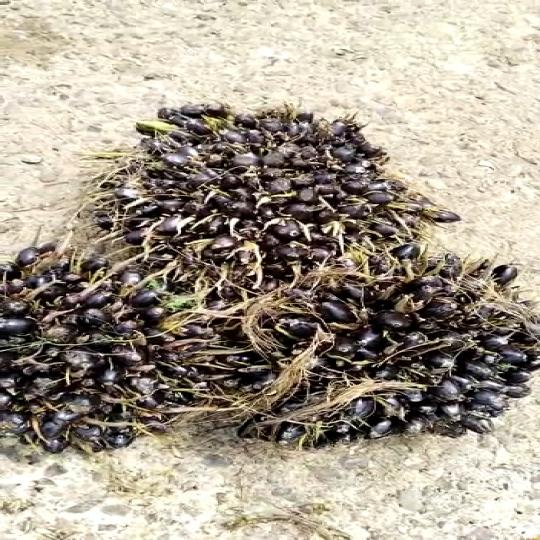mentah: (97, 102, 454, 296), (221, 258, 540, 446), (0, 225, 228, 467)
